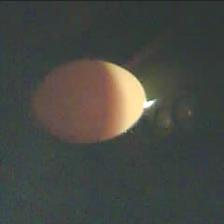fertile: (32, 58, 148, 144)
